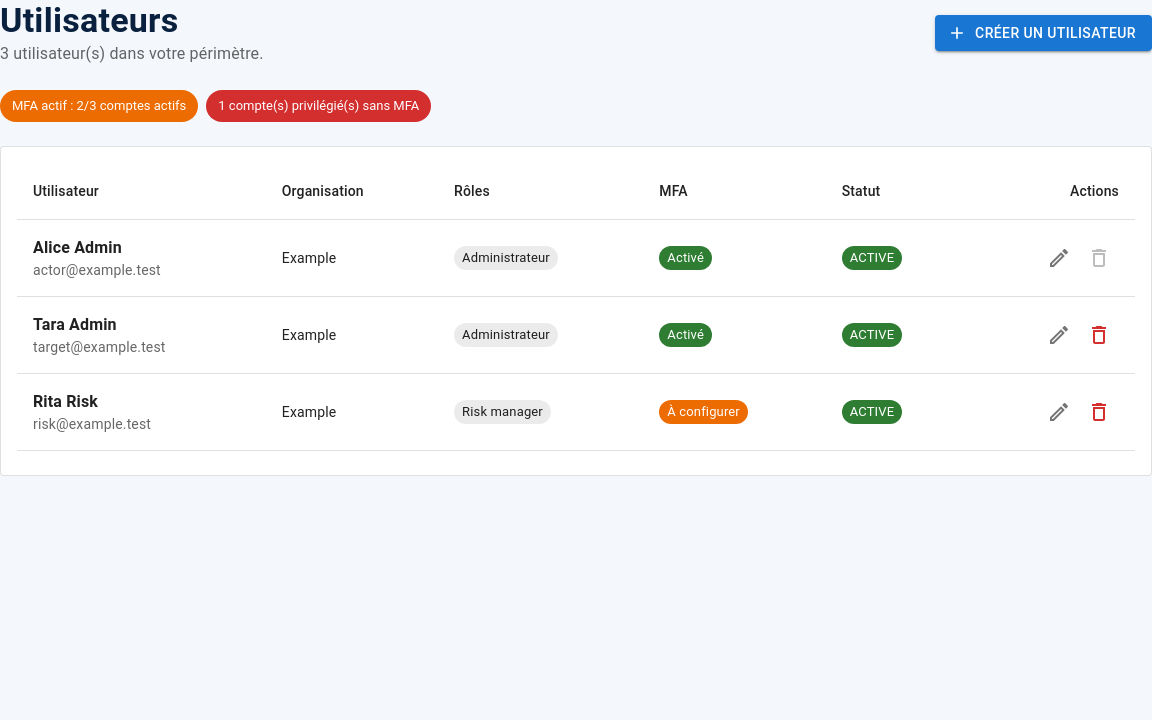
it: UsersPage › shows MFA coverage and requires explicit confirmation for recovery
Check: the text "MFA actif : 2/3 comptes actifs" is shown, box [0,96,198,116]
Check: the text "1 compte(s) privilégié(s) sans MFA" is shown, box [206,96,431,116]
Click the button named "Modifier" in the row of "Tara" at (1059, 335), box [1039,315,1079,355]
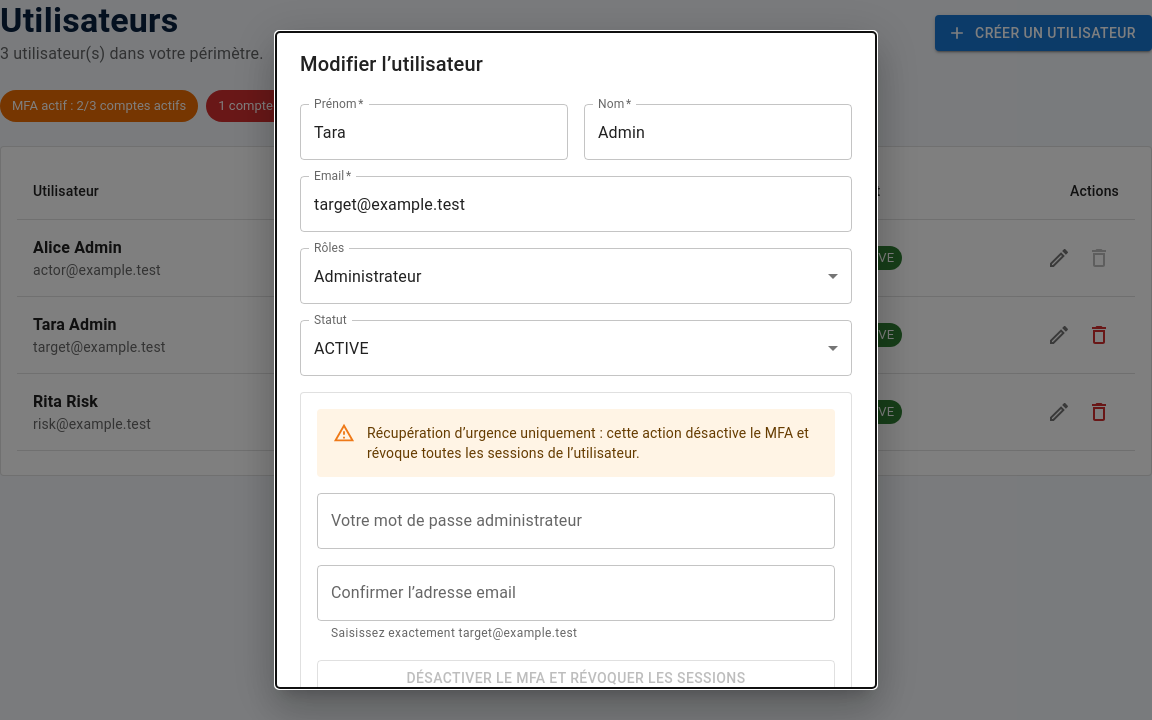
Check: the button "Désactiver le MFA et révoquer les sessions" is disabled, box [317,660,835,688]
Type "StrongPassword123!" into the password field labelled "Votre mot de passe administrateur" at (576, 521), box [317,493,835,549]
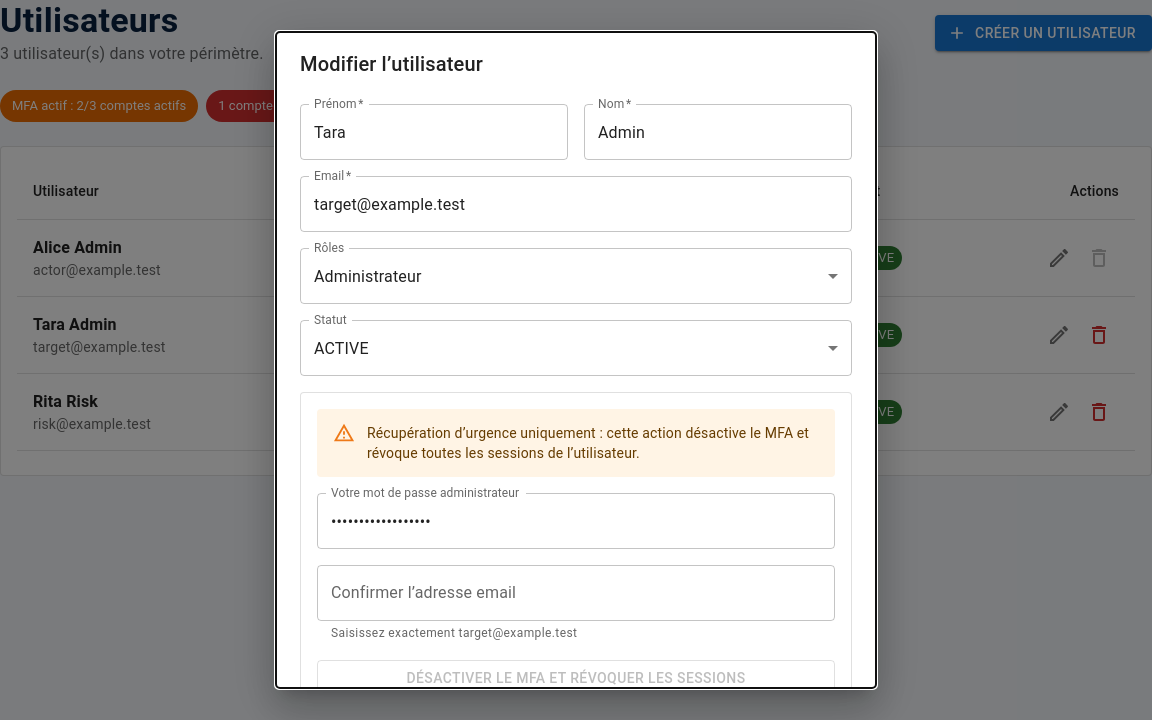
Type "target@example.test" into the field labelled "Confirmer l’adresse email" at (576, 593), box [317,565,835,621]
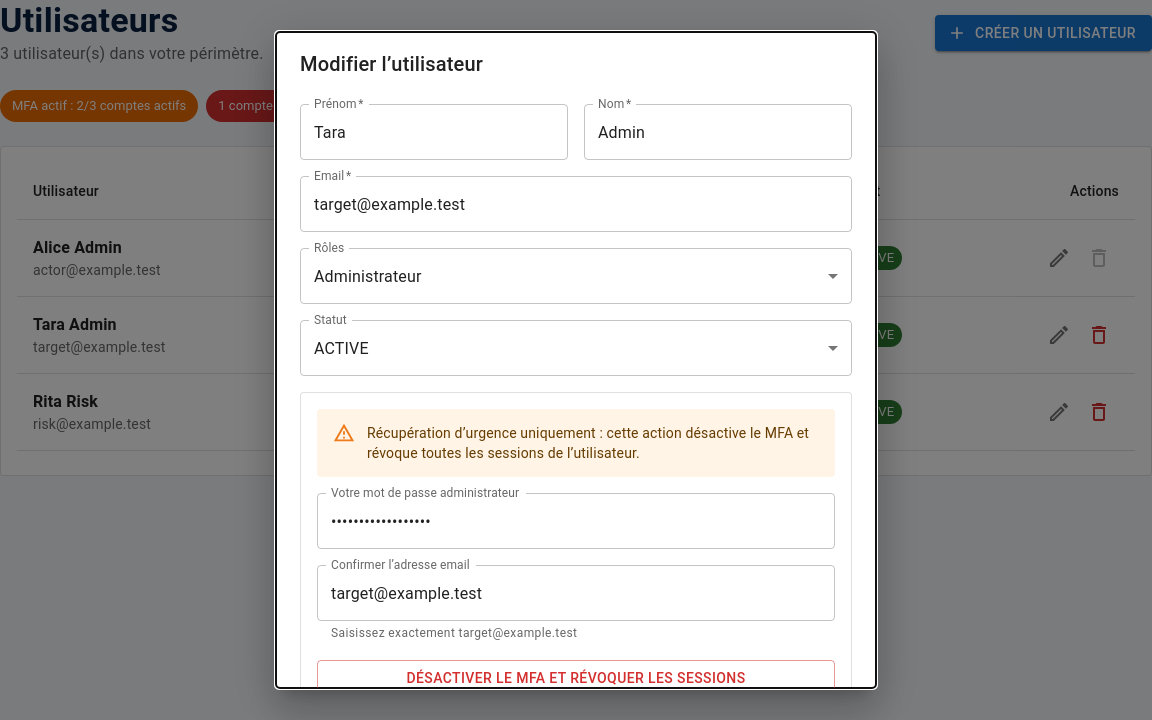
Click the button "Désactiver le MFA et révoquer les sessions" at (576, 678), box [317,660,835,696]
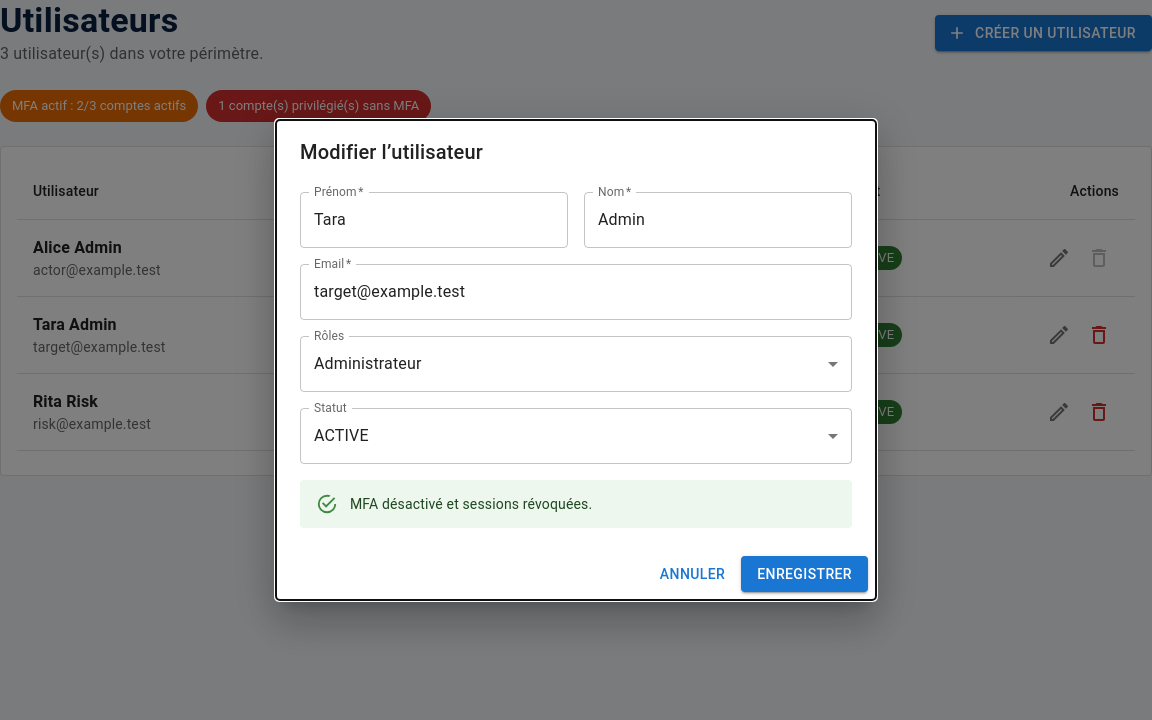
Check: the text "MFA désactivé et sessions révoquées." is shown, box [350,496,592,512]
